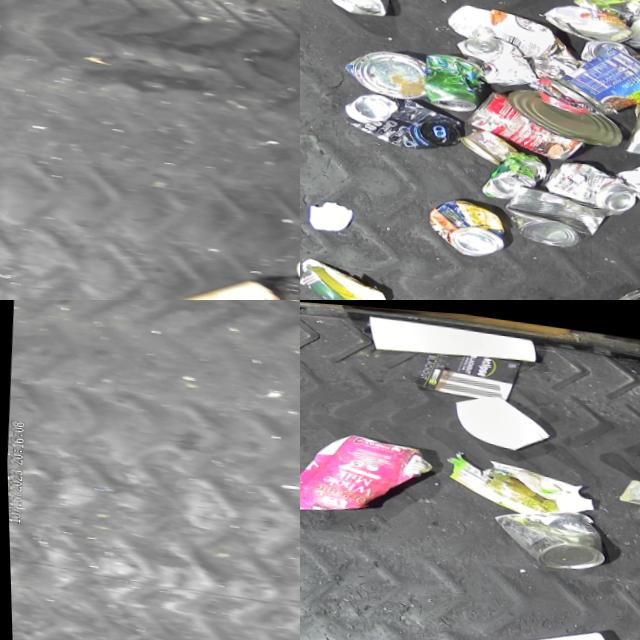can: (462, 79, 586, 154), (488, 492, 605, 567), (339, 83, 460, 149), (499, 174, 609, 245), (552, 32, 640, 115), (504, 78, 623, 139), (540, 149, 636, 208), (422, 189, 505, 253), (451, 25, 538, 84), (340, 38, 425, 96), (419, 46, 484, 109), (478, 141, 546, 197), (539, 0, 634, 36), (457, 119, 517, 160), (577, 28, 638, 59), (619, 87, 640, 153), (314, 0, 388, 13), (621, 0, 640, 42)
milk_jug: (467, 607, 633, 640)
